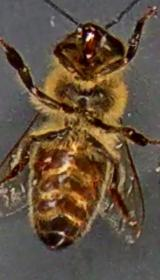varroa_mite: (29, 149, 64, 175)
